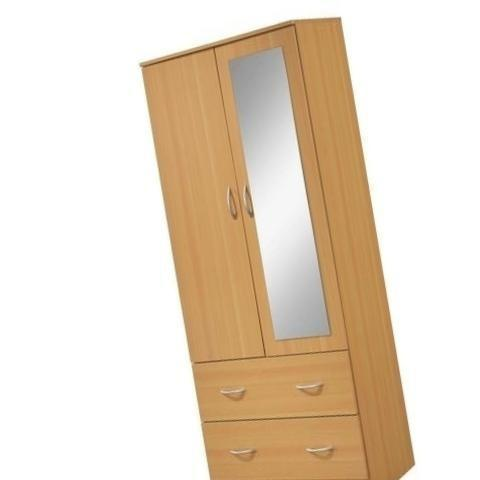Armario: (125, 15, 415, 478)
